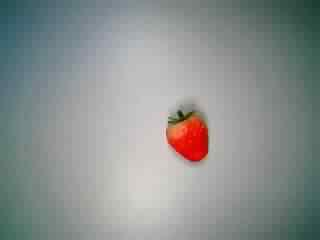strawberry: (151, 100, 217, 162)
